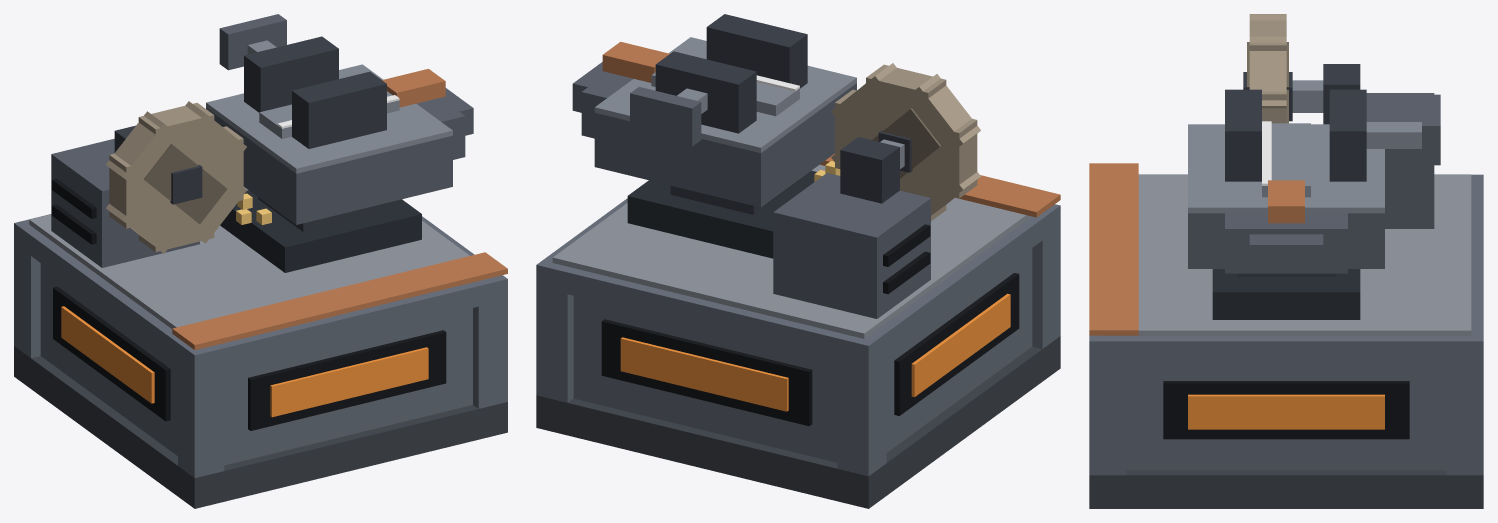
File: repair.glb
3 renders of one model, left to right at view 1: azimuth 30°, elevation 25°; view 2: azimuth 150°, elevation 25°; view 3: azimuth 270°, elevation 25°, orthographic. The views are drawn at different scales.
Parts seen in each view (by area): view 1: body.045, wheel, tier.020, clamp, sparks; view 2: body.045, wheel, clamp, tier.020; view 3: body.045, tier.020, clamp, wheel.
Part boxes in pixels (left/top/right/bottom): body.045: left=14, top=64, right=507, bottom=508; wheel: left=106, top=101, right=246, bottom=253; tier.020: left=172, top=252, right=507, bottom=349; clamp: left=219, top=14, right=338, bottom=112; sparks: left=236, top=193, right=271, bottom=224; body.045: left=536, top=14, right=1060, bottom=508; wheel: left=831, top=63, right=980, bottom=220; clamp: left=630, top=51, right=756, bottom=146; tier.020: left=820, top=153, right=1060, bottom=217; body.045: left=1089, top=64, right=1483, bottom=508; tier.020: left=1089, top=163, right=1138, bottom=335; clamp: left=1329, top=89, right=1440, bottom=181; wheel: left=1243, top=14, right=1292, bottom=123.
Bounding box in the file's own units: 1.13 × 0.9801 × 1.
